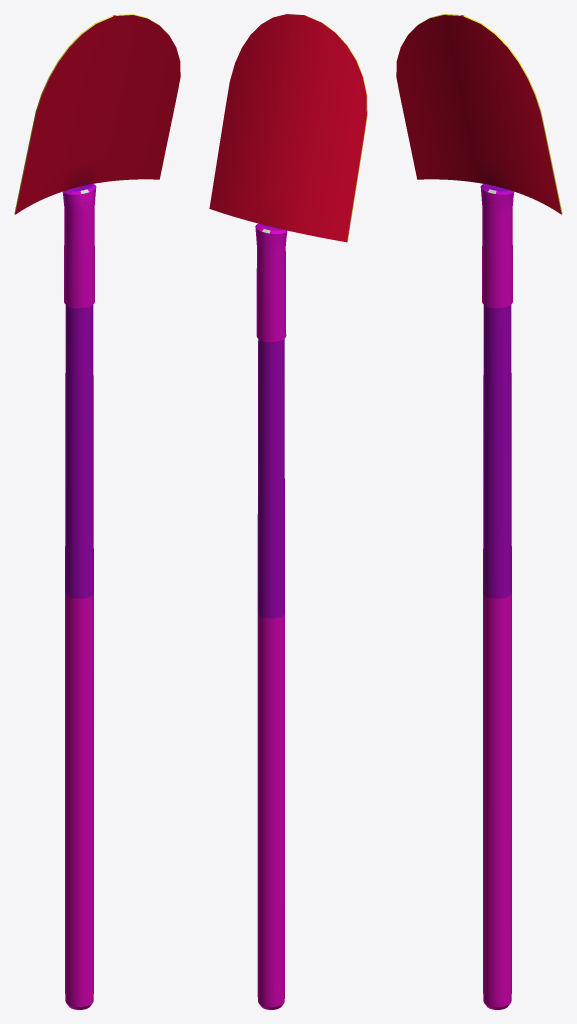
Rendered from shovel.glb.
3 renders of one model, left to right at view 1: azimuth 30°, elevation 25°; view 2: azimuth 150°, elevation 25°; view 3: azimuth 330°, elevation 25°, orthographic. The views are drawn at different scales.
Parts seen in each view (by area): view 1: shovel; view 2: shovel; view 3: shovel.
Part boxes in pixels (x1,y1,x2,y2): shovel: [14, 14, 180, 1009]; shovel: [209, 14, 367, 1009]; shovel: [396, 14, 562, 1009].
Size of the model in its own units: 0.22 by 1.48 by 0.1132.
